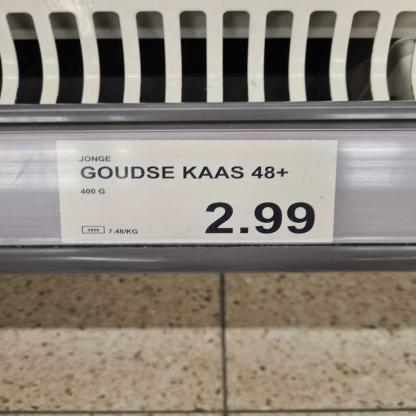prtg: (58, 141, 339, 245)
